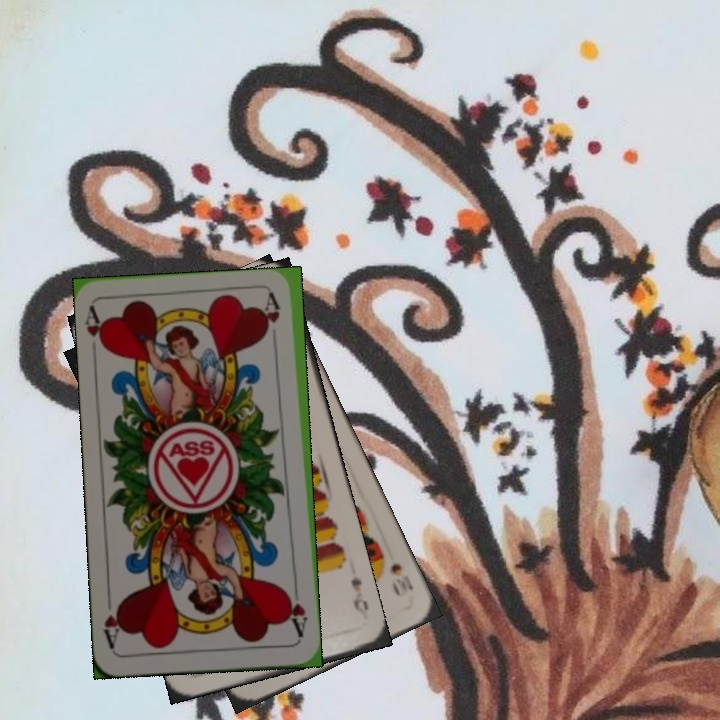E9: (347, 573, 372, 623)
HA: (283, 582, 310, 640), (82, 302, 111, 353)
S10: (386, 559, 416, 598)
